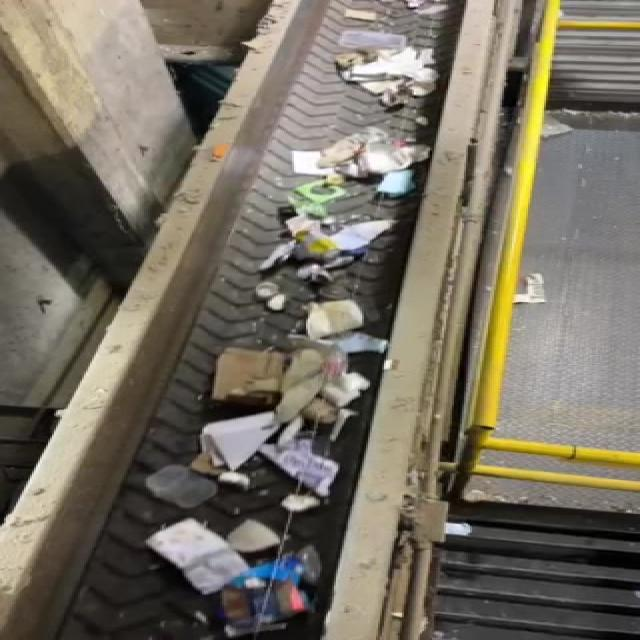paper: (138, 521, 261, 598), (188, 408, 295, 484)
pet: (218, 558, 322, 632)
pp: (140, 464, 232, 515)
